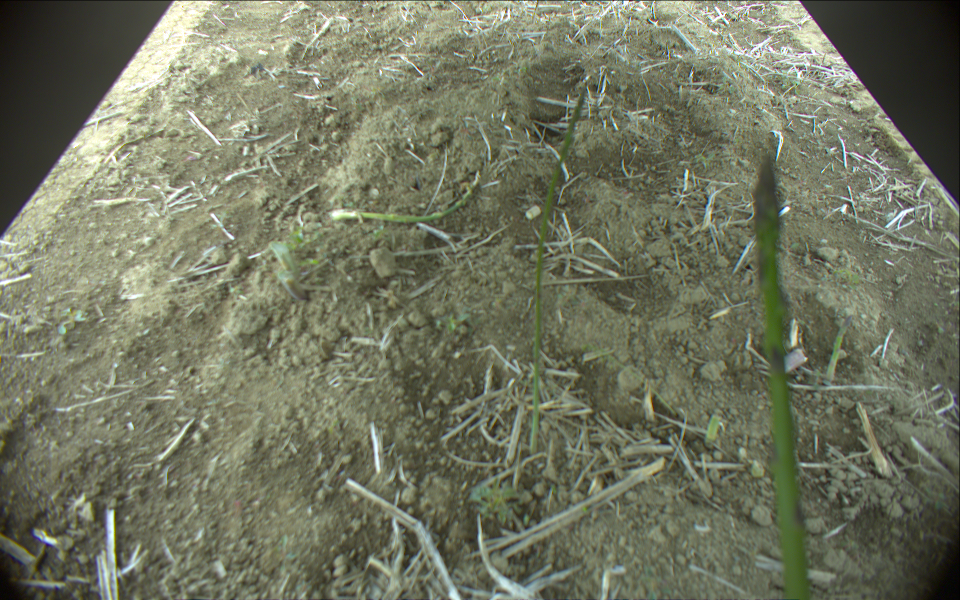aspa: (752, 155, 815, 599), (527, 82, 589, 458), (326, 172, 481, 224)
